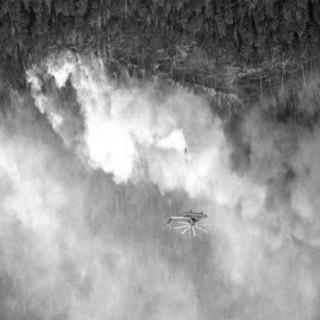Fire: (181, 83, 248, 119)
Smoke: (60, 92, 314, 190)
